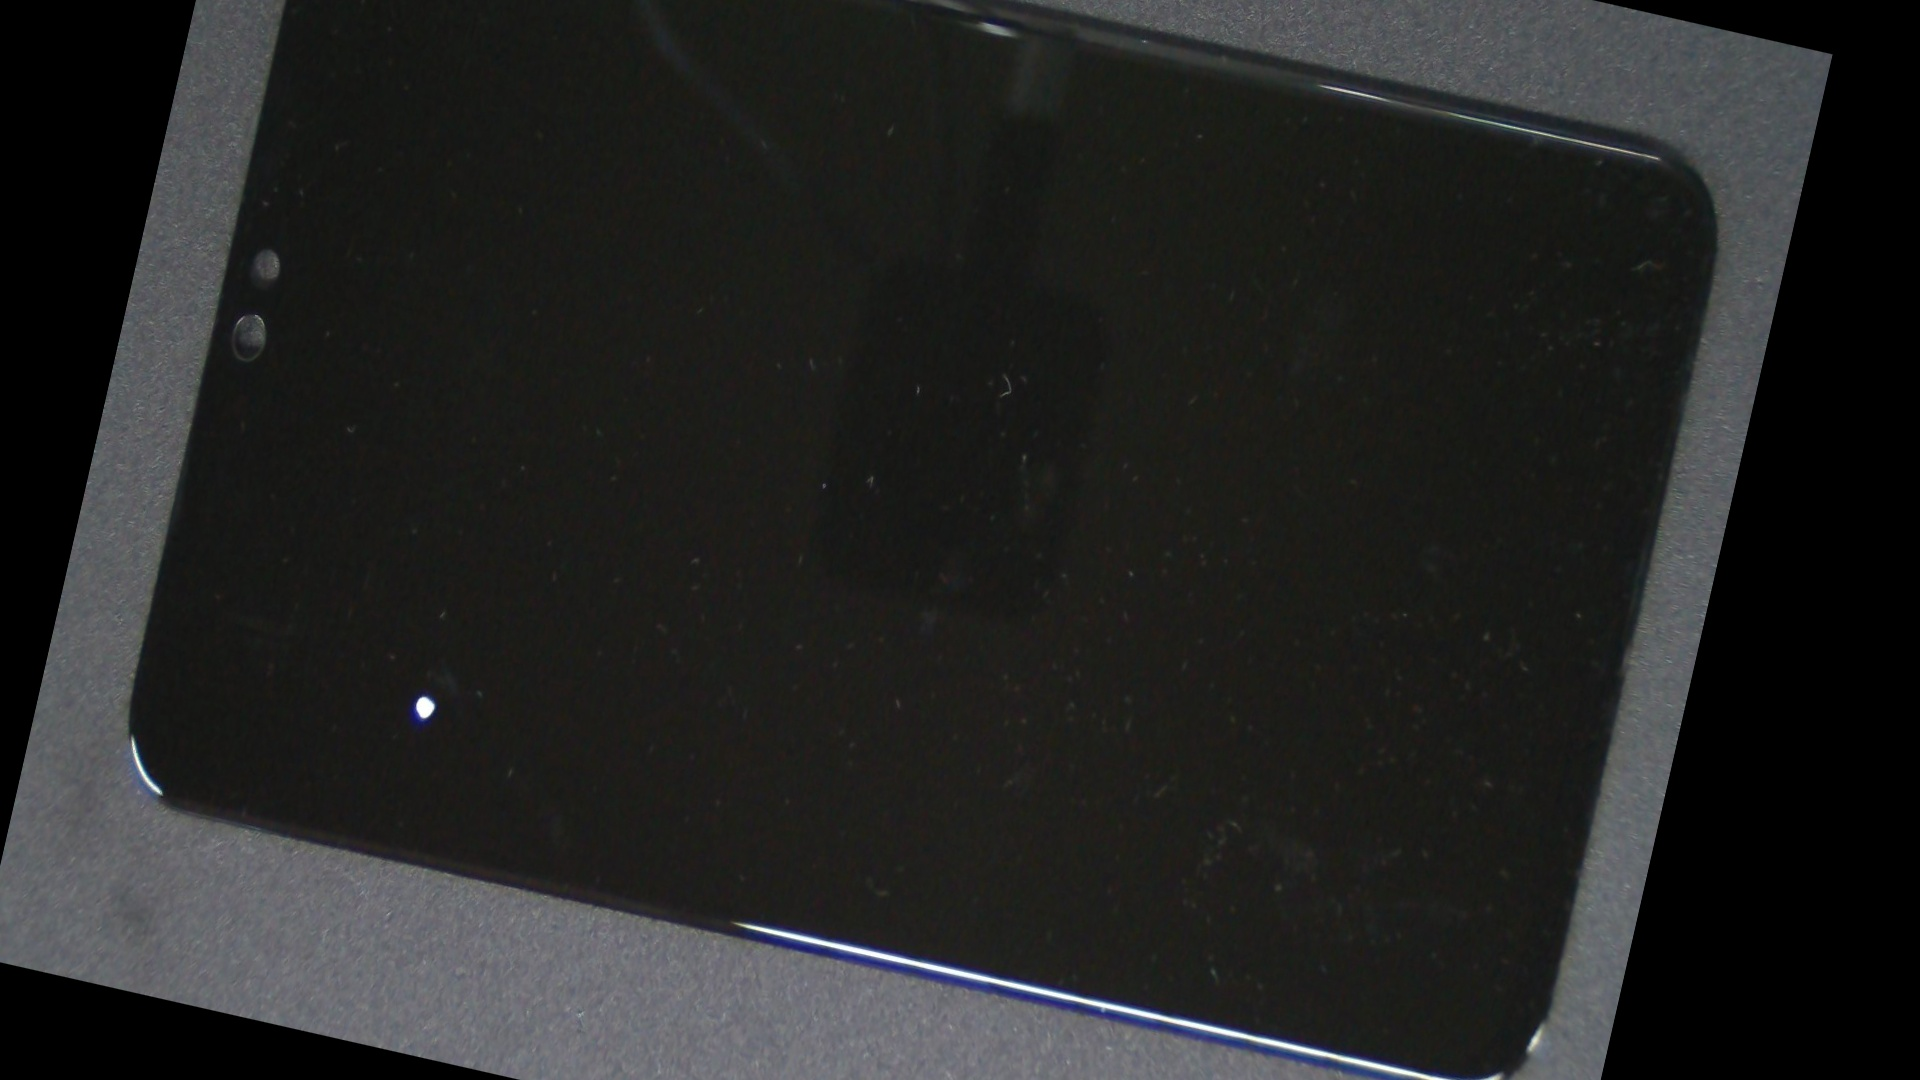oil: (162, 195, 707, 1080)
